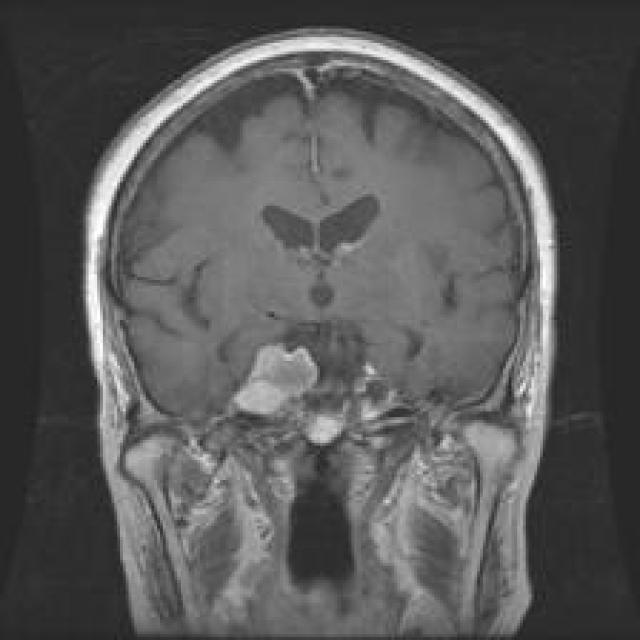meningioma_tumor: (225, 335, 327, 426)
